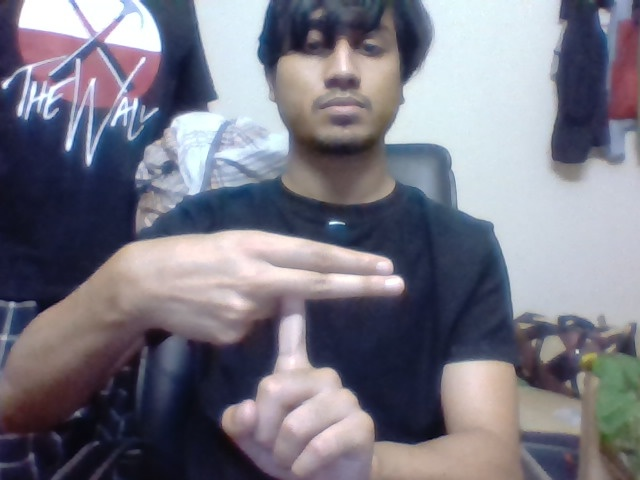F: (262, 225, 405, 363)
